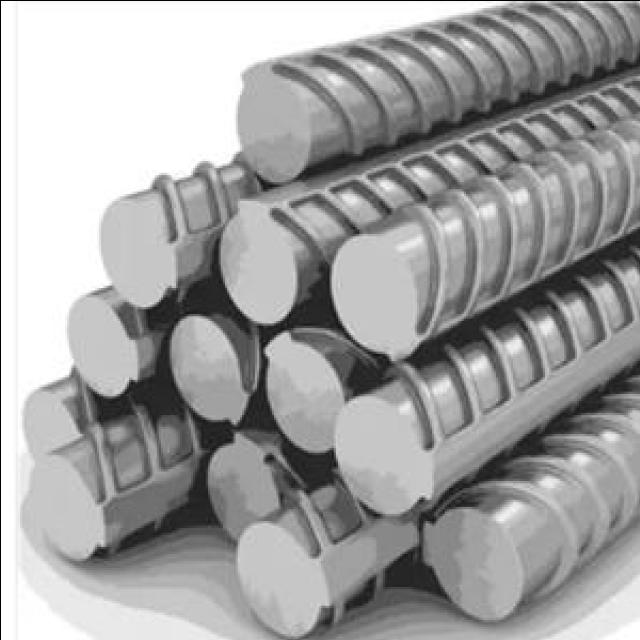Rebar: (227, 516, 341, 634), (335, 390, 436, 518), (334, 227, 430, 357), (265, 330, 366, 448), (427, 504, 525, 622), (221, 191, 303, 323), (18, 452, 113, 565), (165, 311, 255, 425), (230, 62, 315, 174), (204, 434, 289, 546), (55, 296, 147, 398), (94, 197, 184, 296), (17, 387, 84, 467)
